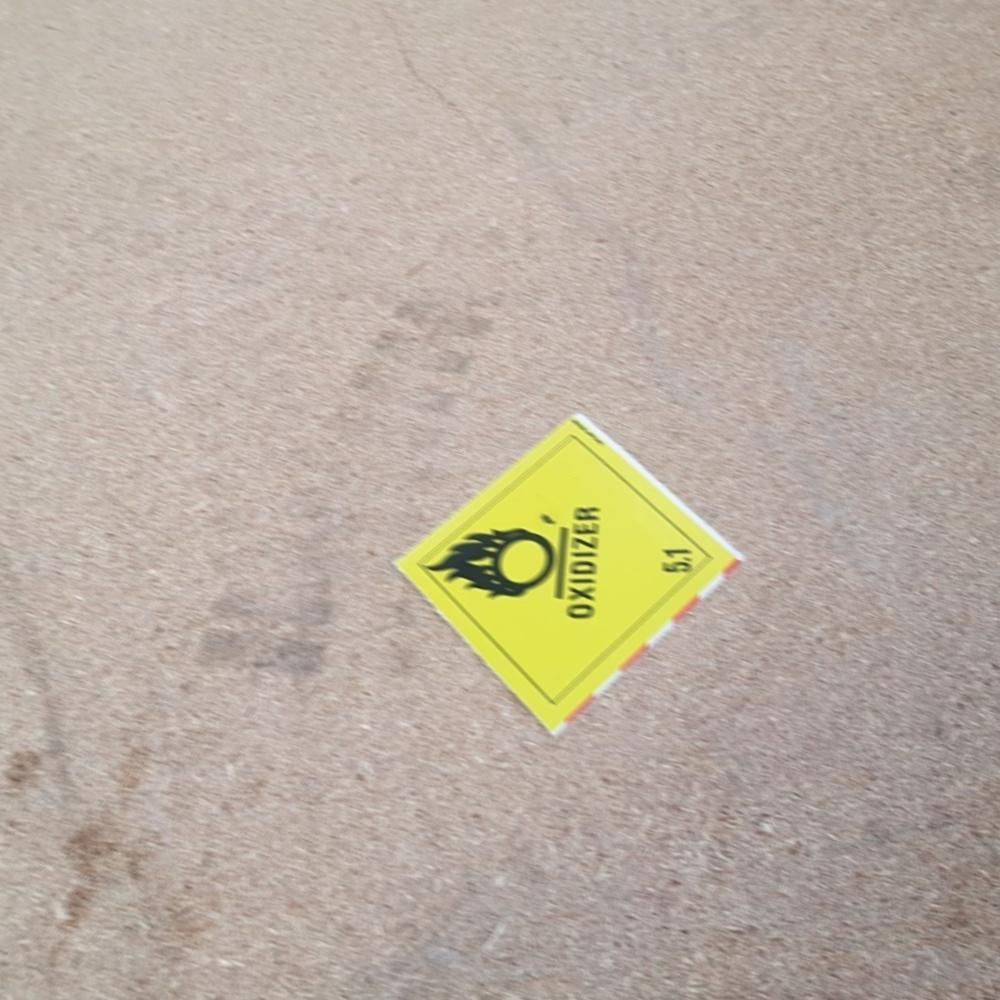oxidizer: (395, 416, 741, 748)
